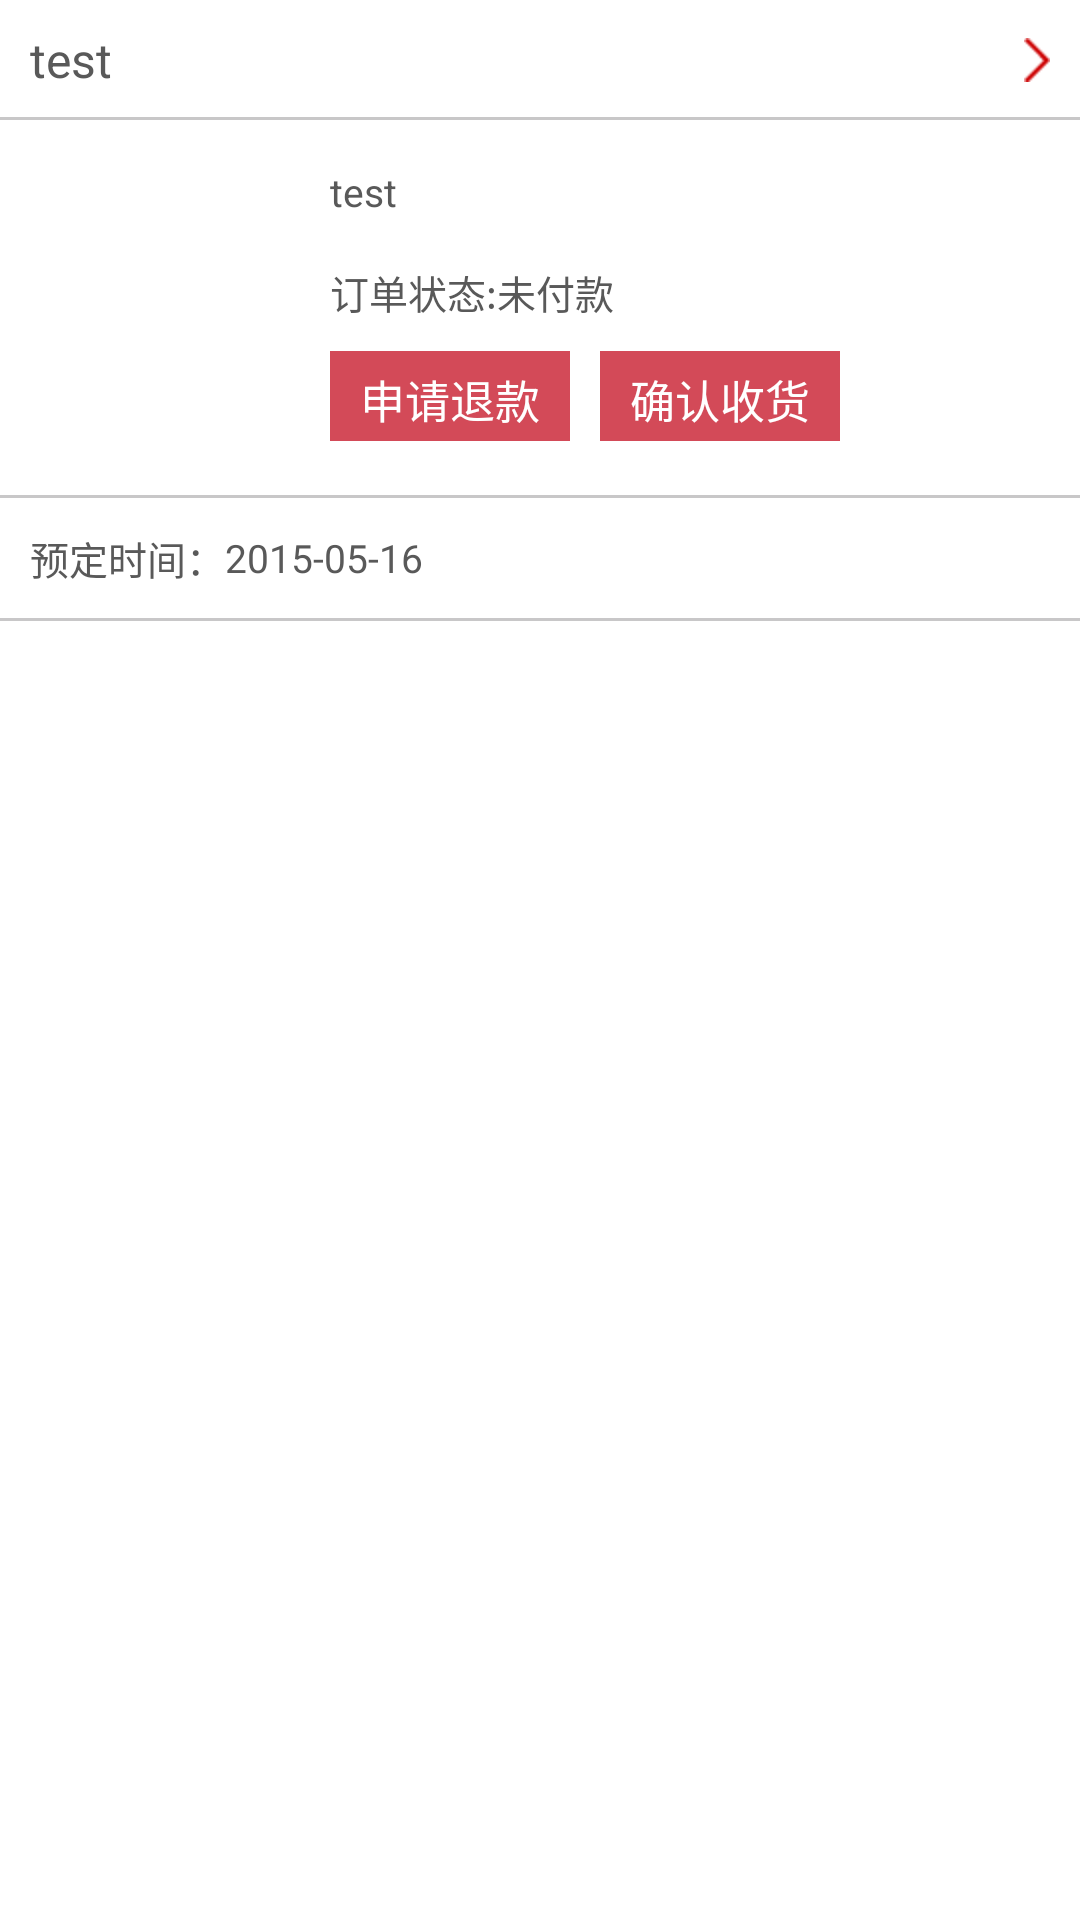

Screen size 1080×1920. Icon name, then its center in pixels as (x,y):
right: (1037,60)
